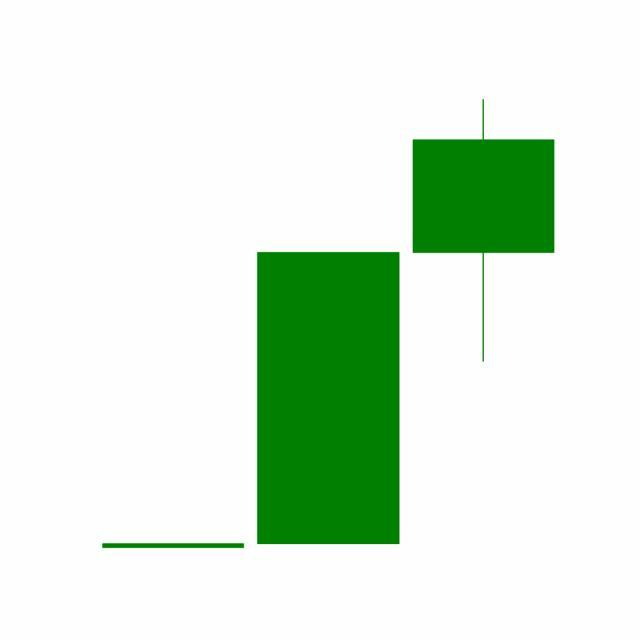Marubozu: (250, 249, 407, 548)
